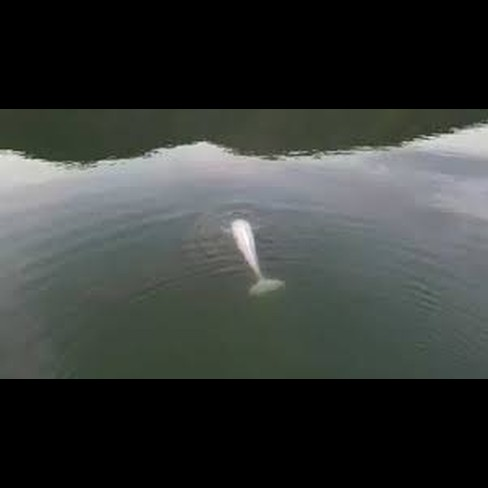beluga: (222, 211, 290, 304)
